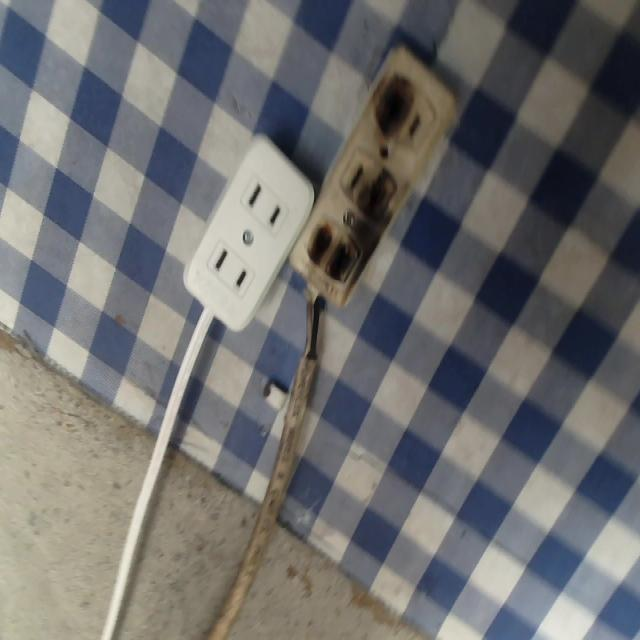-: (299, 215, 361, 304), (376, 68, 414, 148), (363, 165, 400, 231)
